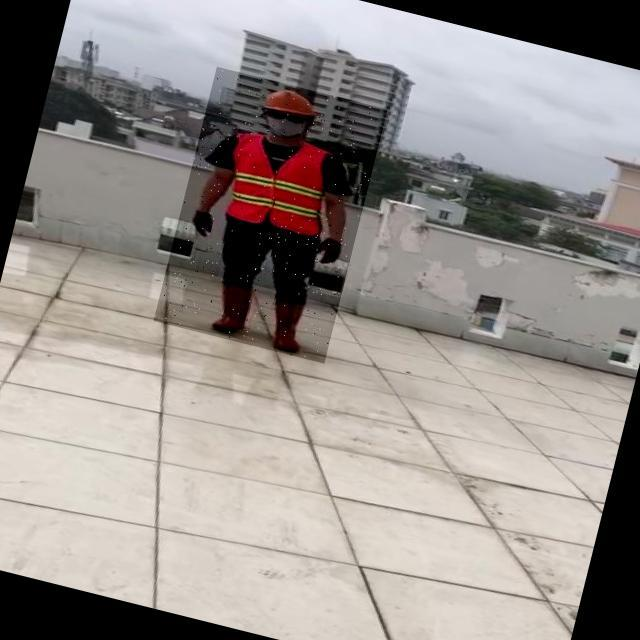Gloves: (185, 206, 219, 242), (309, 235, 342, 268)
Helmet: (258, 82, 317, 120)
Human: (154, 67, 388, 364)
Safety Boot: (261, 295, 316, 354), (207, 279, 256, 336)
Safety Vest: (219, 131, 336, 239)
